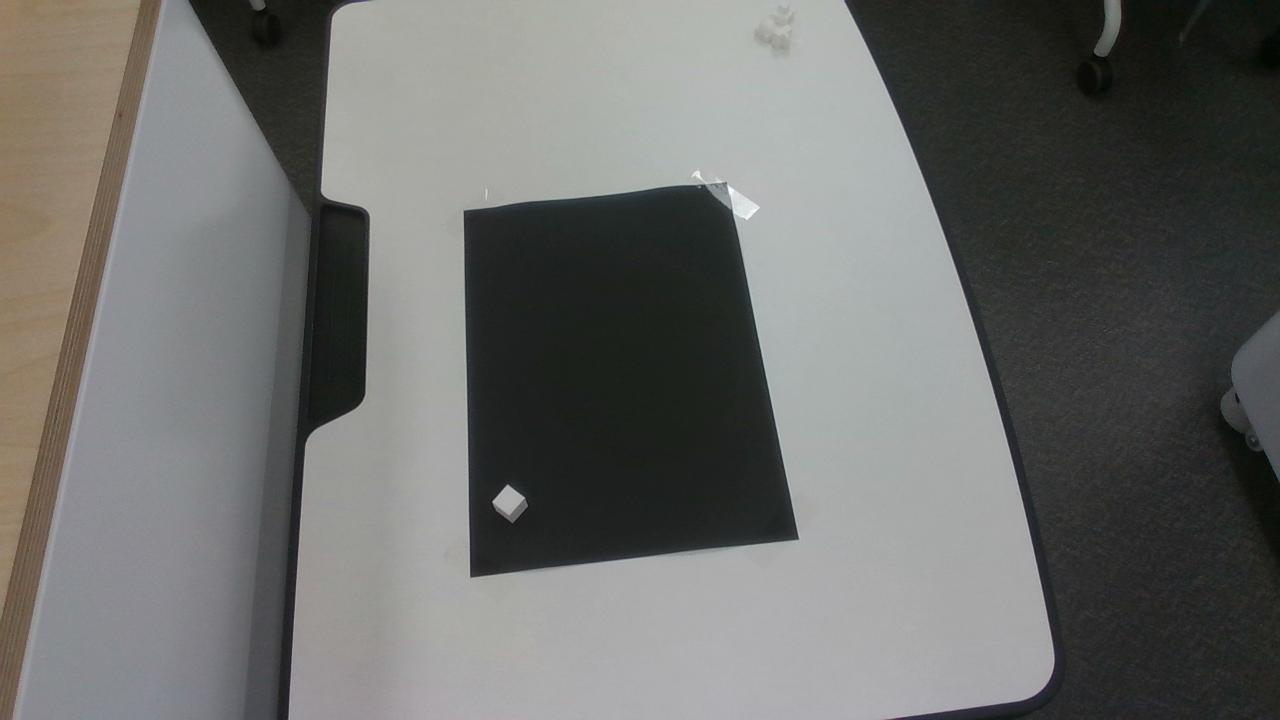cube: (493, 485, 526, 522)
